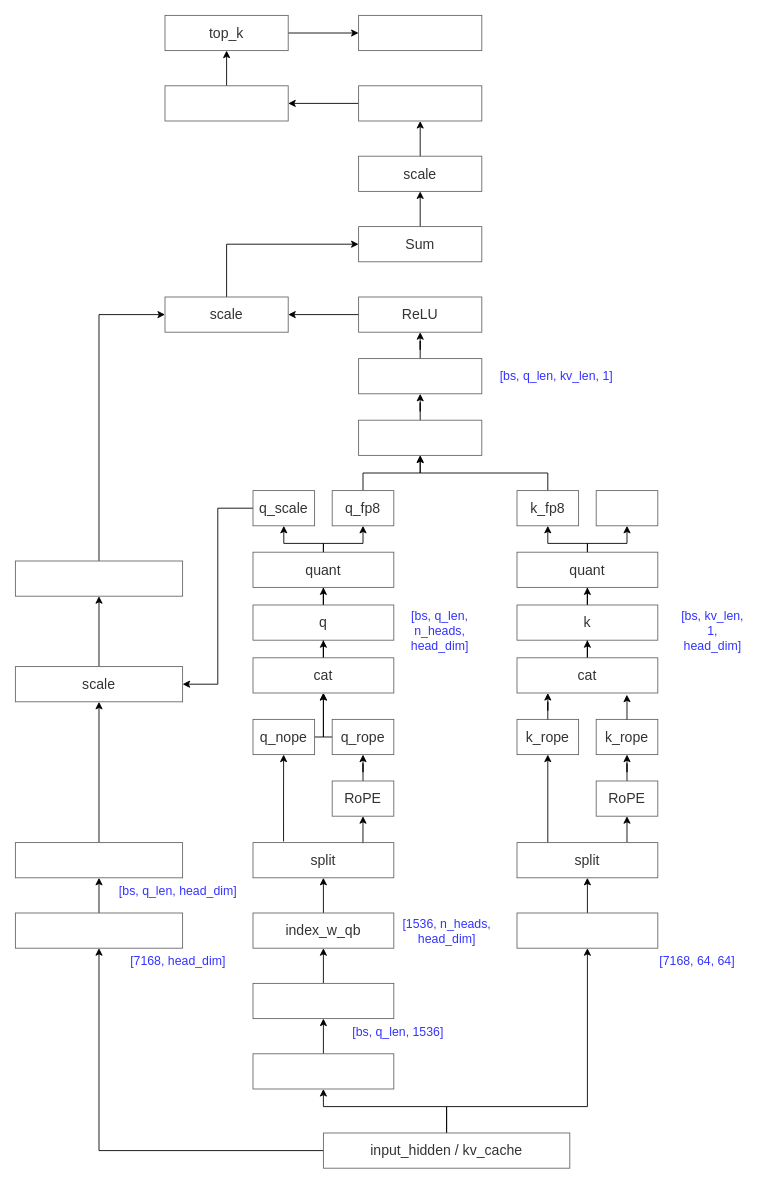
This 779x1184 diagram has some shape labels left out. Each missing label, with the box of its shape:
index_score: (358, 85, 482, 121)
index_w_k: (516, 912, 658, 948)
k_scale: (595, 490, 658, 526)
logits: (358, 358, 482, 394)
mask: (164, 85, 288, 121)
matmul: (358, 419, 482, 455)
q_latent: (252, 983, 394, 1019)
q_s: (15, 560, 183, 596)
topk_indices: (358, 15, 482, 51)
w_qa: (252, 1053, 394, 1089)
weights: (15, 842, 183, 878)
weights_proj: (15, 912, 183, 948)
